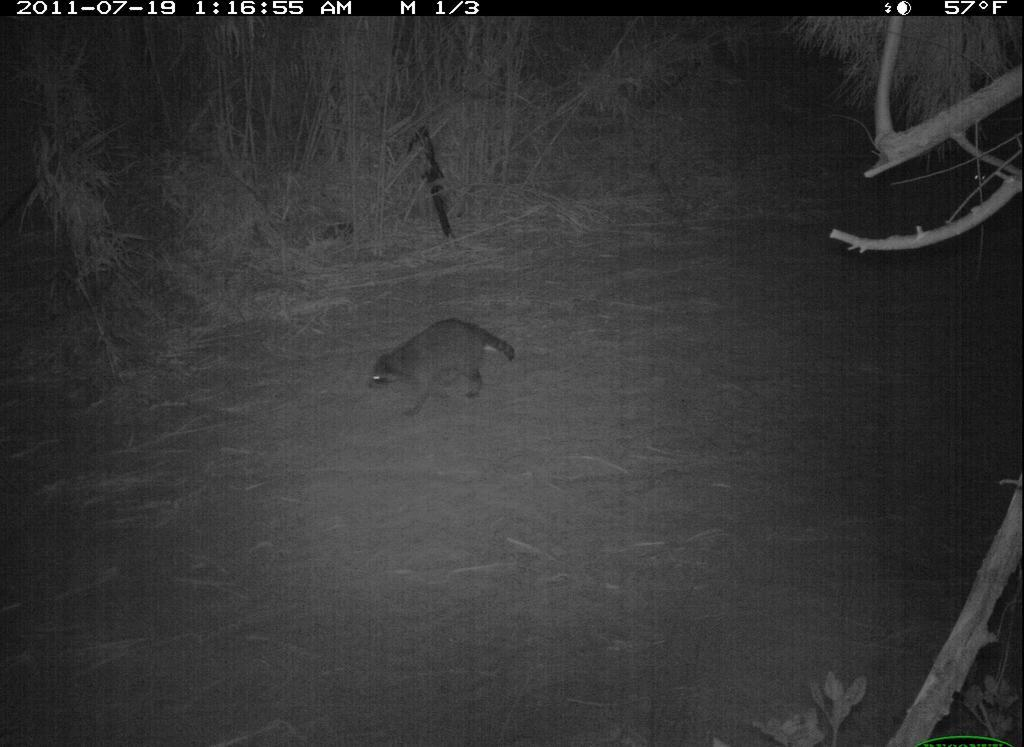raccoon: (367, 317, 518, 418)
